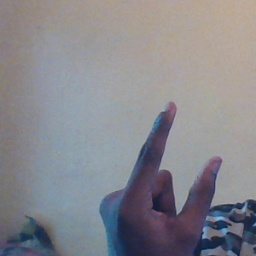U: (95, 98, 228, 256)
